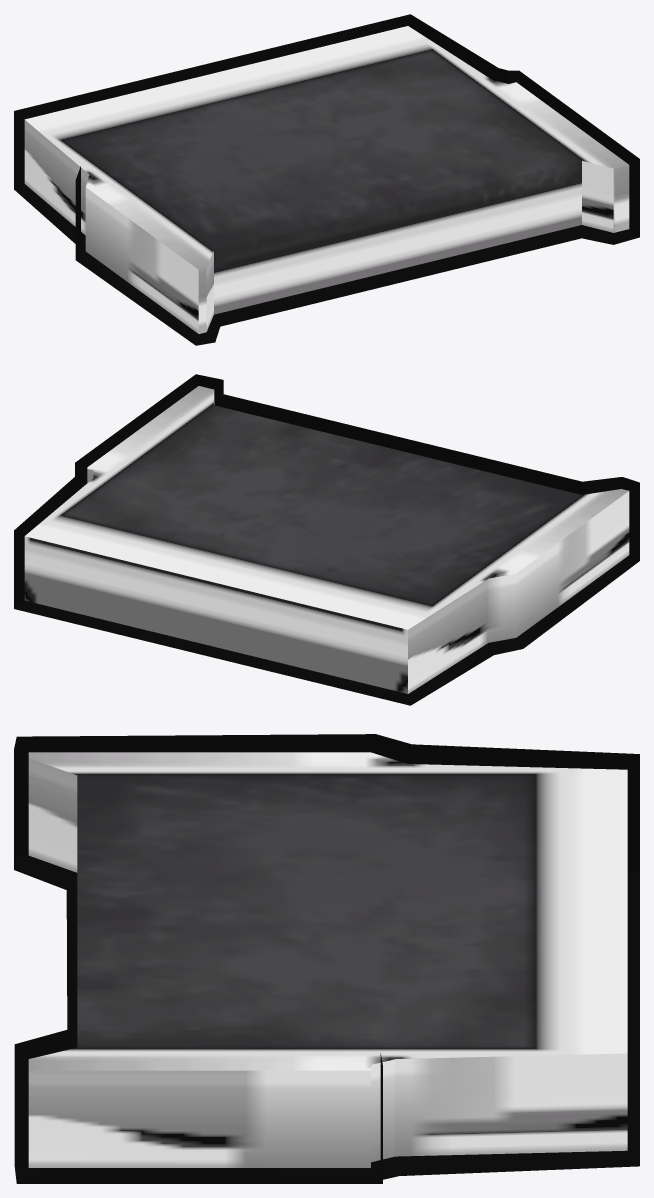
File: Building_Blackboard_Things_Building_Childcare_Blackboard_Blackboard.glb
3 views of the same model, one above another, from view 1: azimuth 30°, elevation 25°; view 2: azimuth 150°, elevation 25°; view 3: azimuth 270°, elevation 25° (orthographic). The views are drawn at different scales.
Parts seen in each view (by area): view 1: Body, Outline; view 2: Body, Outline; view 3: Body, Outline.
Boxes of the visible parts, x1,y1,x2,y2 form: Body: [24, 26, 629, 333]; Outline: [14, 14, 639, 345]; Body: [24, 386, 629, 693]; Outline: [14, 374, 639, 705]; Body: [28, 752, 627, 1167]; Outline: [14, 734, 639, 1183].
Bounding box in the file's own units: 0.8899 × 0.162 × 0.7141.
Materials: 2 (1 with a texture image).
